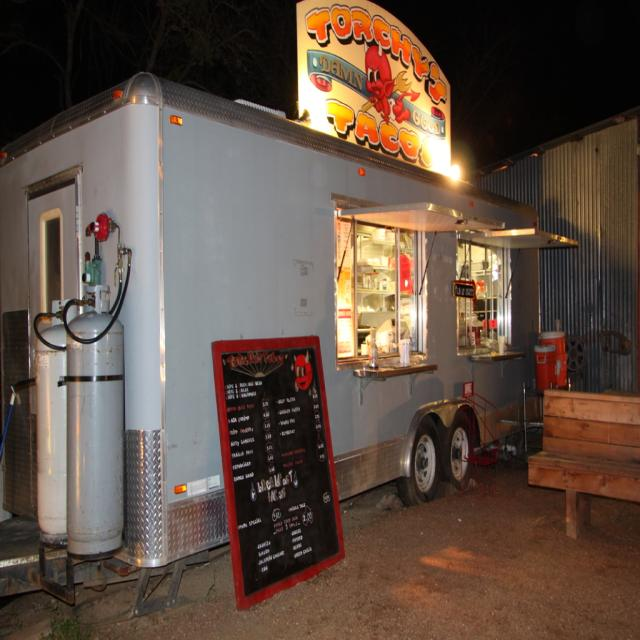Heavy Duty Truck: (1, 69, 551, 602)
